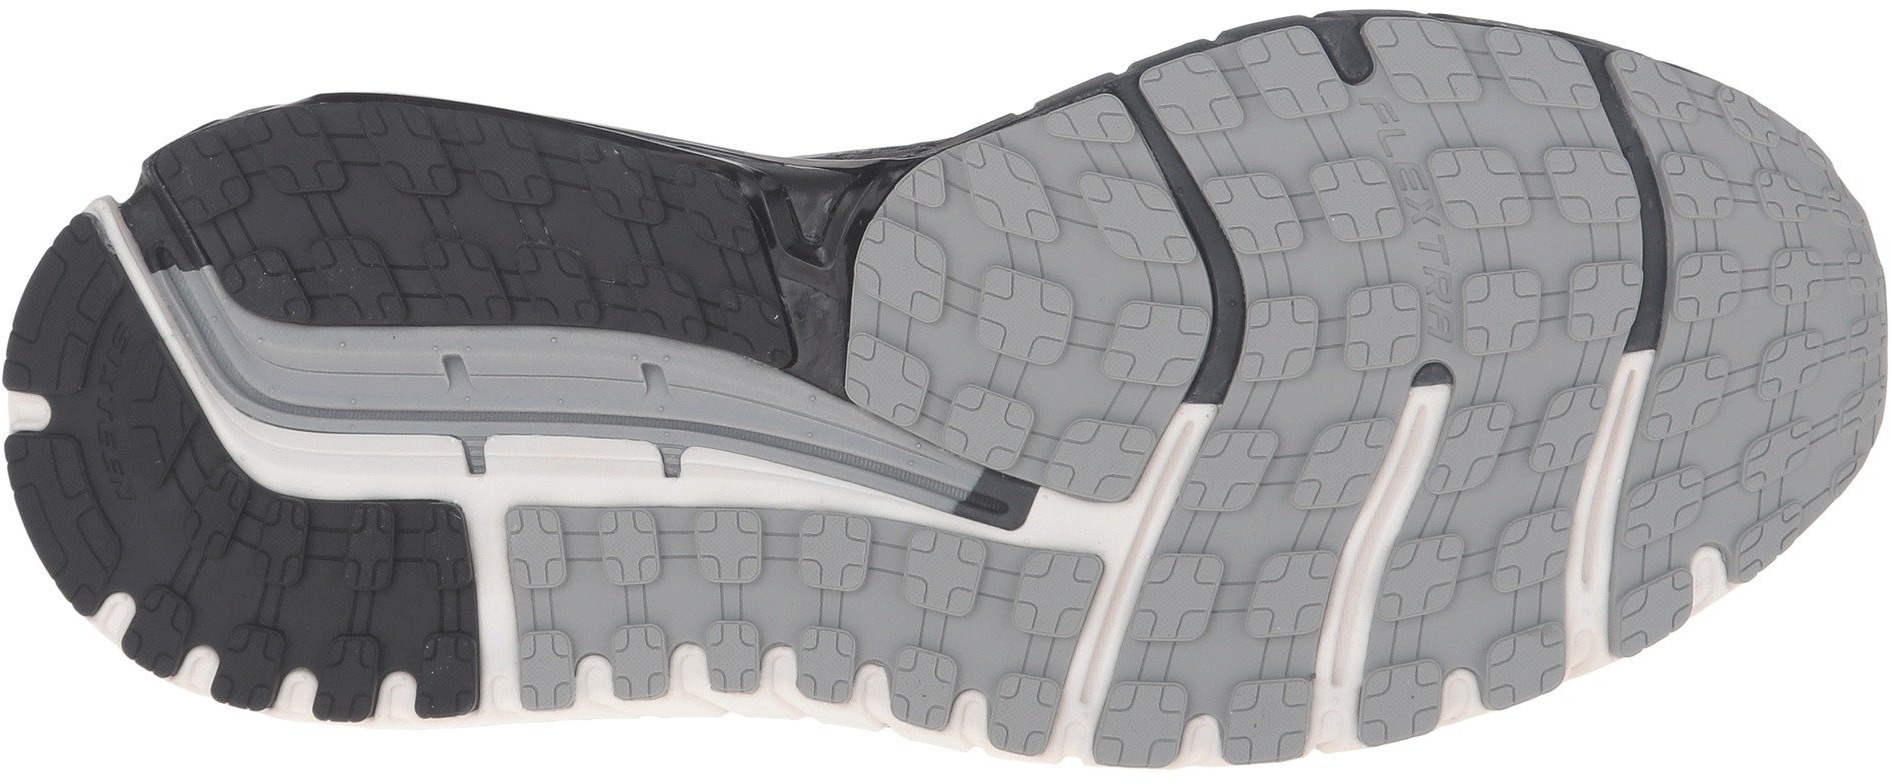quad: (908, 166, 1167, 400), (1670, 226, 1885, 449), (587, 507, 804, 707), (1225, 159, 1406, 361), (1454, 169, 1635, 349), (384, 138, 576, 303), (1208, 428, 1372, 548), (1479, 501, 1588, 601)
ribbon: (251, 311, 523, 550)
